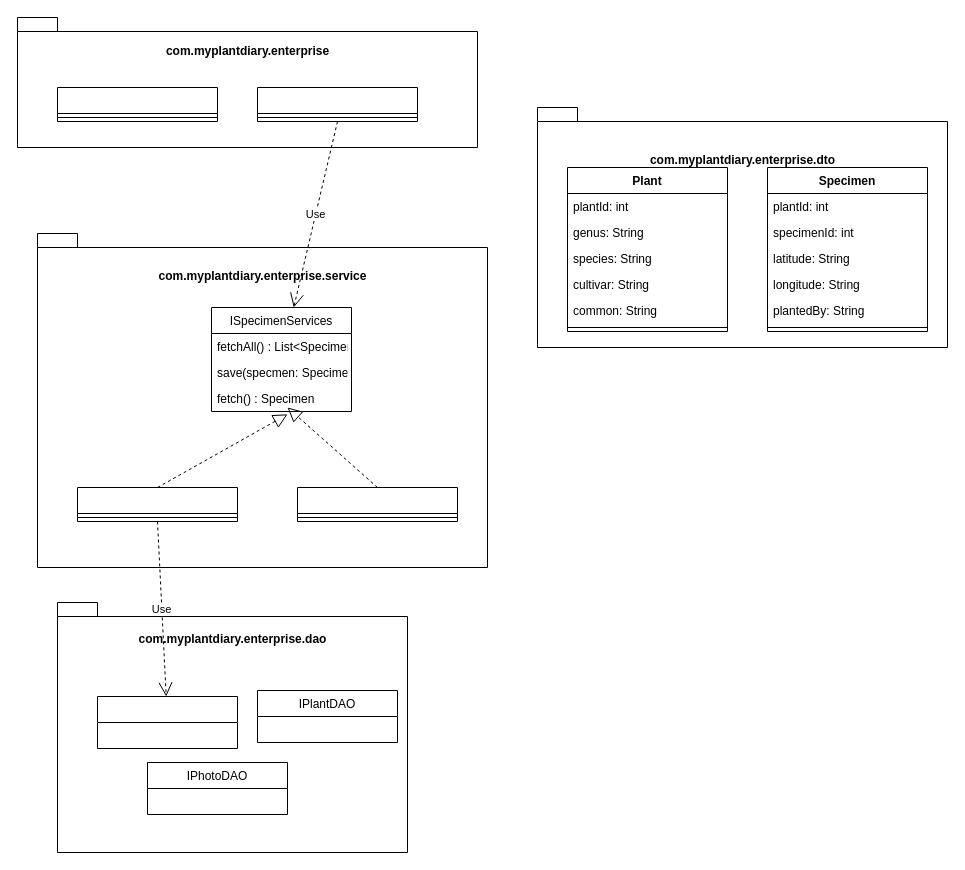
The diagram is 965 pixels wide and 870 high, and some of its shapes have lost their labels. The shapes that lost their labels are listed below. From the top down, each one's centre as x and y in pixels, then its label:
At point (137, 104): "EnterpriseApplication".
At point (337, 104): "MyPlantDiaryController".
At point (157, 504): "SpecimenService".
At point (377, 504): "SpecimenServiceStub".
At point (167, 722): "ISpecimenDAO".
